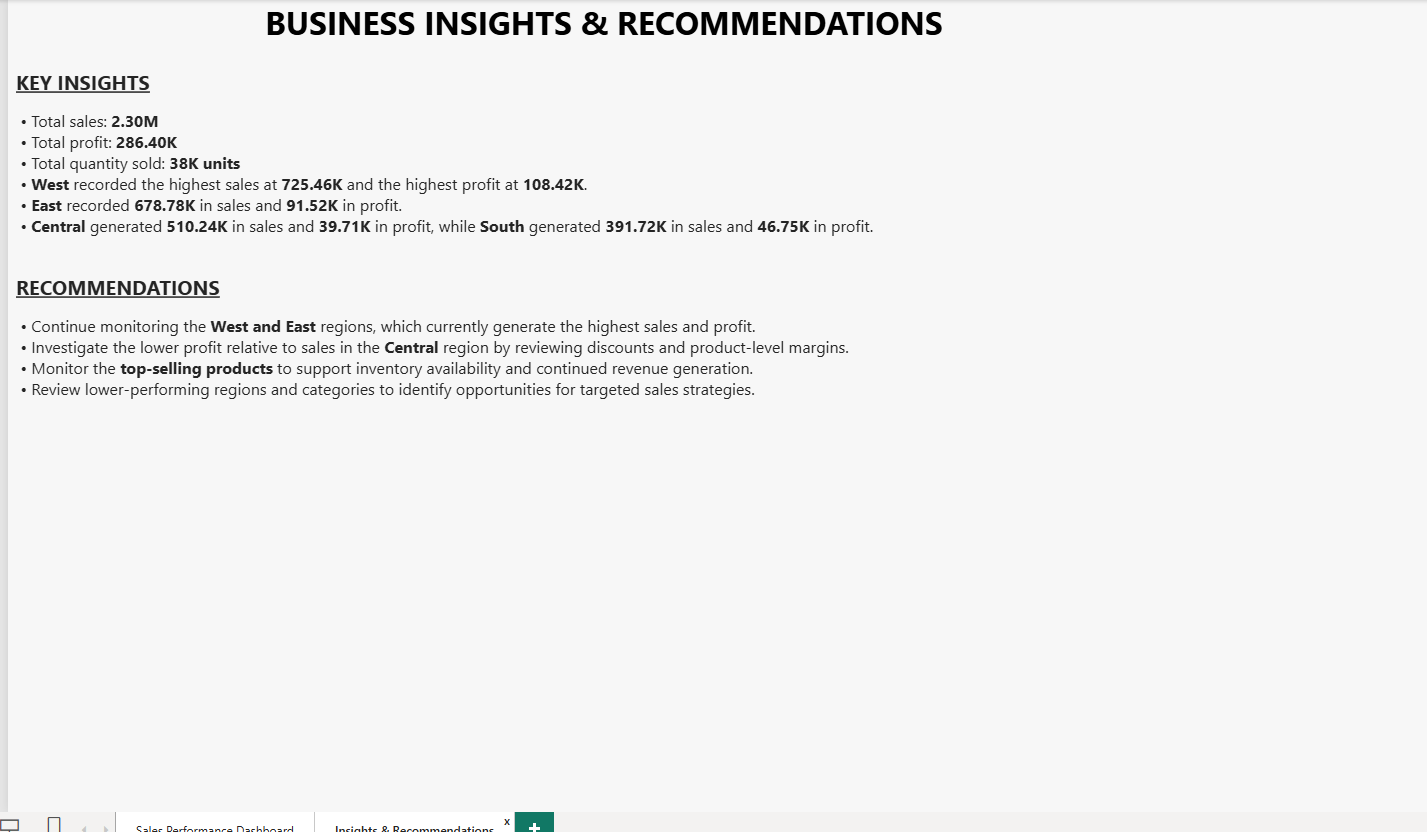

Layout of this report page (visuals, bound fields, positions):
{"tool":"powerbi","page":{"name":"Insights & Recommendations","canvas":[1920,1080],"ordinal":1},"visuals":[{"type":"textbox","box":[10,0,280,280],"z":0},{"type":"textbox","box":[10.6,0,1564.1,58.5],"z":1},{"type":"textbox","box":[10.6,90.4,1698.5,263.3],"z":2},{"type":"textbox","box":[11,363,1698,263],"z":3}]}

Visuals, with their boxes on the page's 1920x1080 design canvas (x1, y1, x2, y2). These are canvas units, not pixel positions in the 1427x832 screenshot, which may show the page scaled, cropped or inside an application window:
textbox: x1=10 y1=0 x2=290 y2=280
textbox: x1=11 y1=0 x2=1575 y2=58
textbox: x1=11 y1=90 x2=1709 y2=354
textbox: x1=11 y1=363 x2=1709 y2=626
